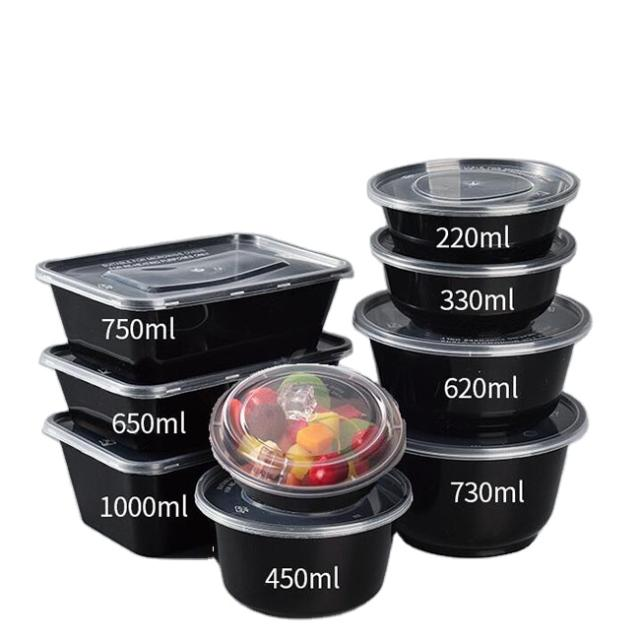plastic_box: (16, 139, 612, 605), (39, 212, 362, 384), (186, 353, 436, 524), (360, 284, 613, 436), (34, 389, 235, 572), (364, 147, 595, 264)
